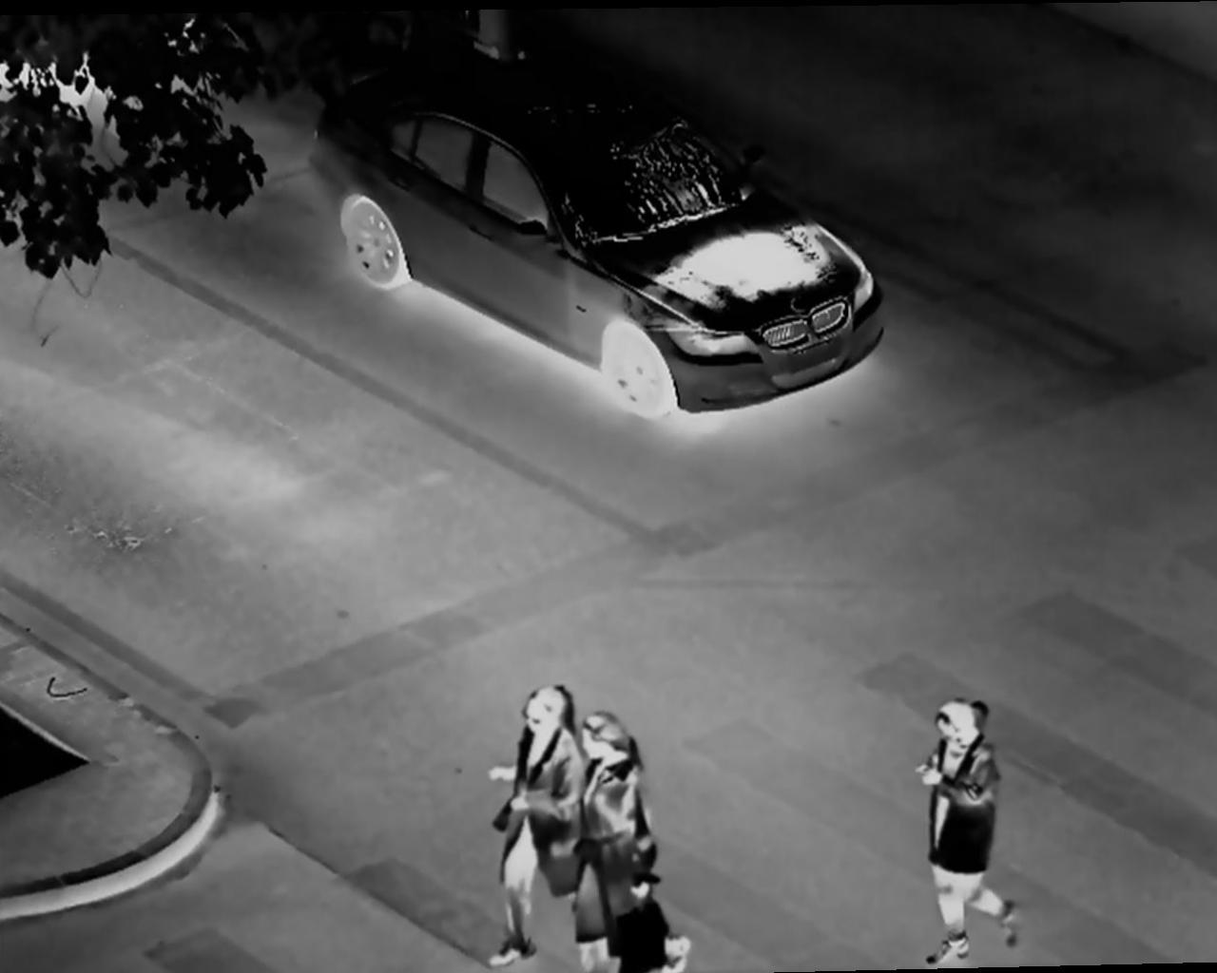person: (569, 711, 683, 973), (916, 696, 1023, 973), (493, 680, 589, 954)
